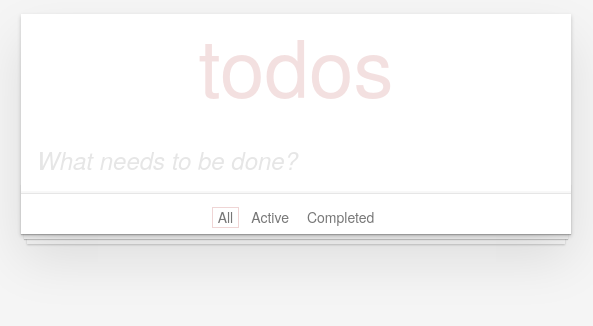
Test: deletes a task
Type "New Task" into the field with placeholder "What needs to be done?".
click(296, 160); type("New Task")  # box [21,127,571,193]
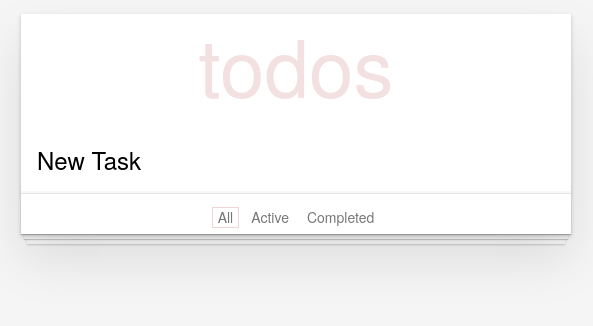
Submit the form from the field with placeholder "What needs to be done?", box [21,127,571,193]
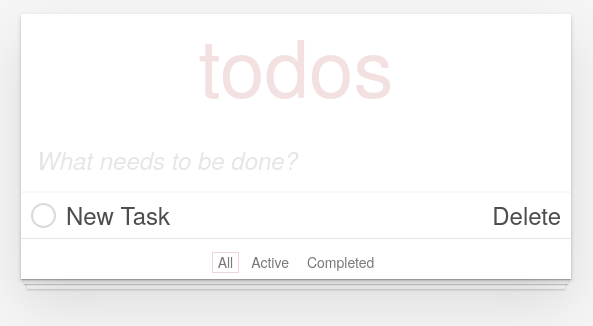
Click the button "Delete".
click(527, 215)  # box [492,206,561,225]
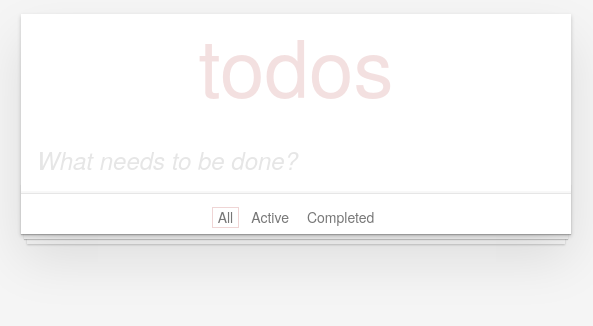
Result: the text "New Task" is gone
